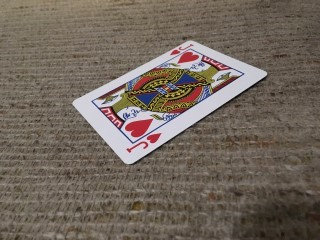JackOfHearts: (72, 39, 267, 164)
